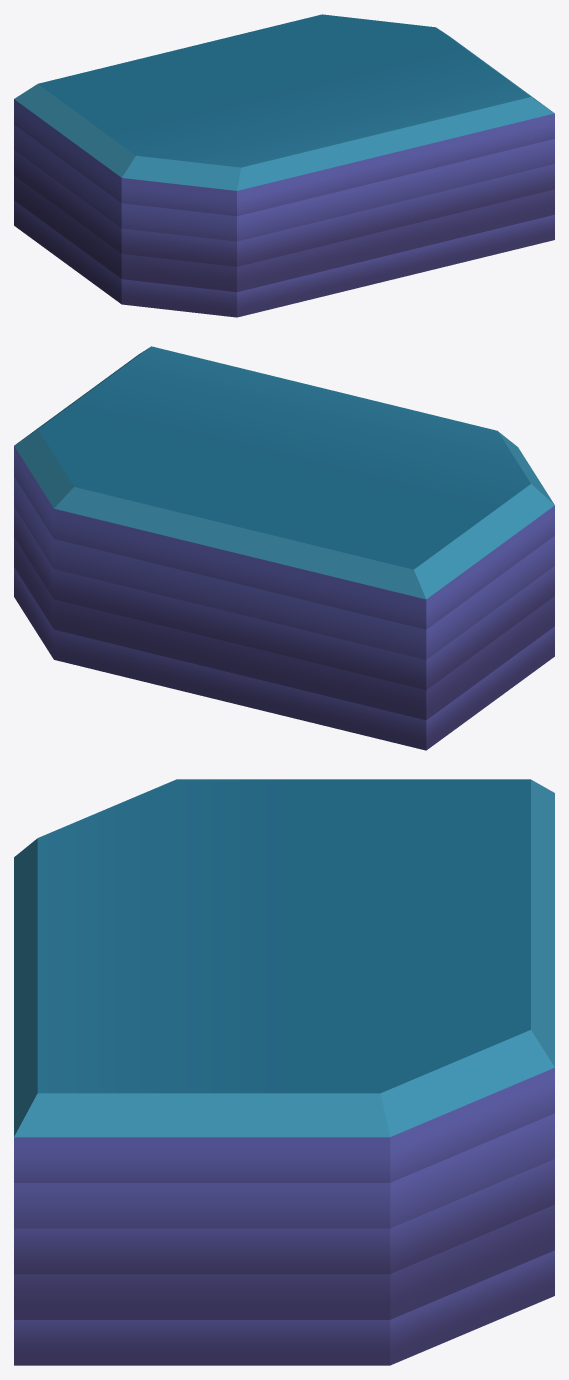
File: StoneWall030.fbx
3 renders of one model, top to bottom at view 1: azimuth 30°, elevation 25°; view 2: azimuth 150°, elevation 25°; view 3: azimuth 270°, elevation 25°, orthographic. The views are drawn at different scales.
Parts seen in each view (by area): view 1: StoneWall030; view 2: StoneWall030; view 3: StoneWall030.
Part boxes in pixels (box(x1,y1,x2,y2)): StoneWall030: box(14, 14, 554, 317); StoneWall030: box(14, 346, 554, 750); StoneWall030: box(14, 779, 554, 1365).
Size of the model in its own units: 533 by 186 by 354.
